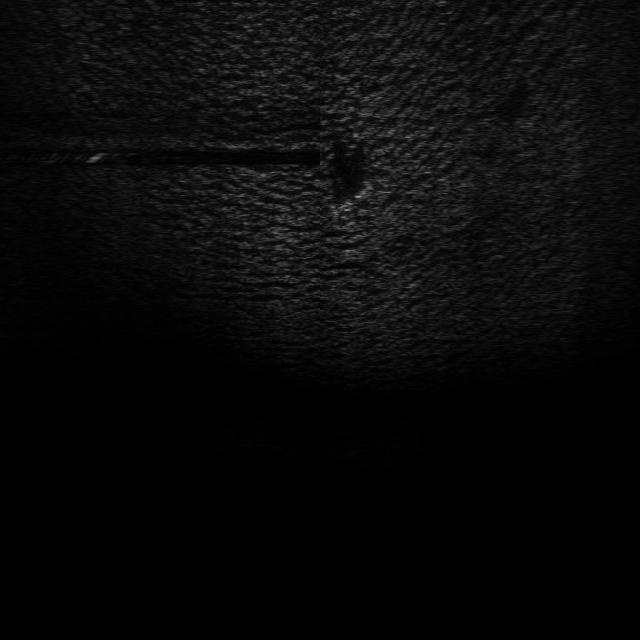plane: (324, 182, 374, 222)
